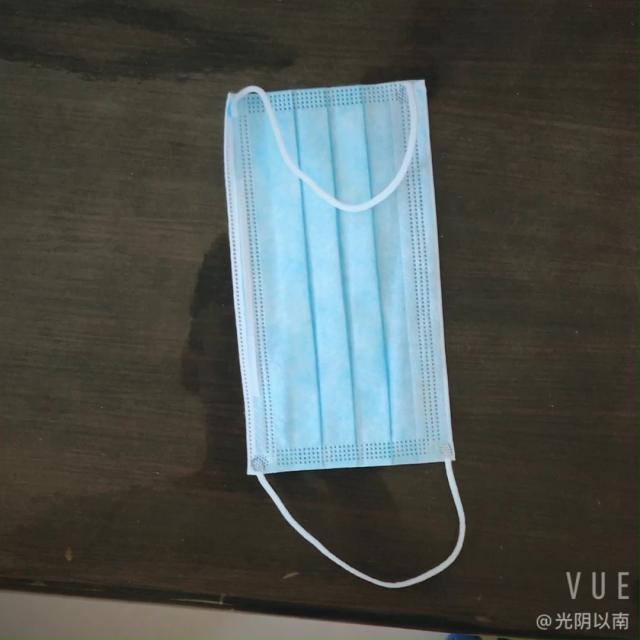non-organic waste: (222, 88, 443, 470)
